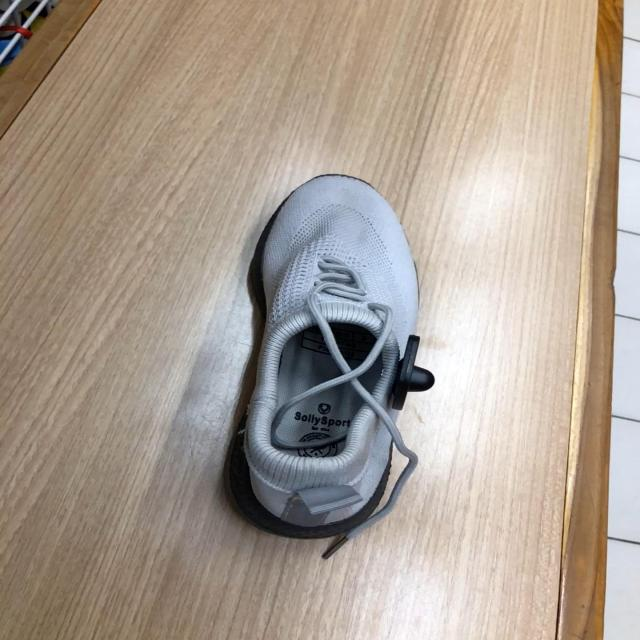shoe: (225, 174, 435, 532)
